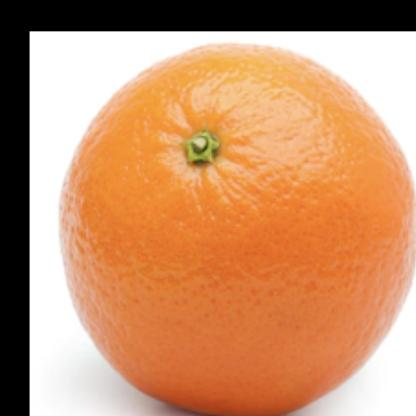fresh: (60, 45, 416, 416)
